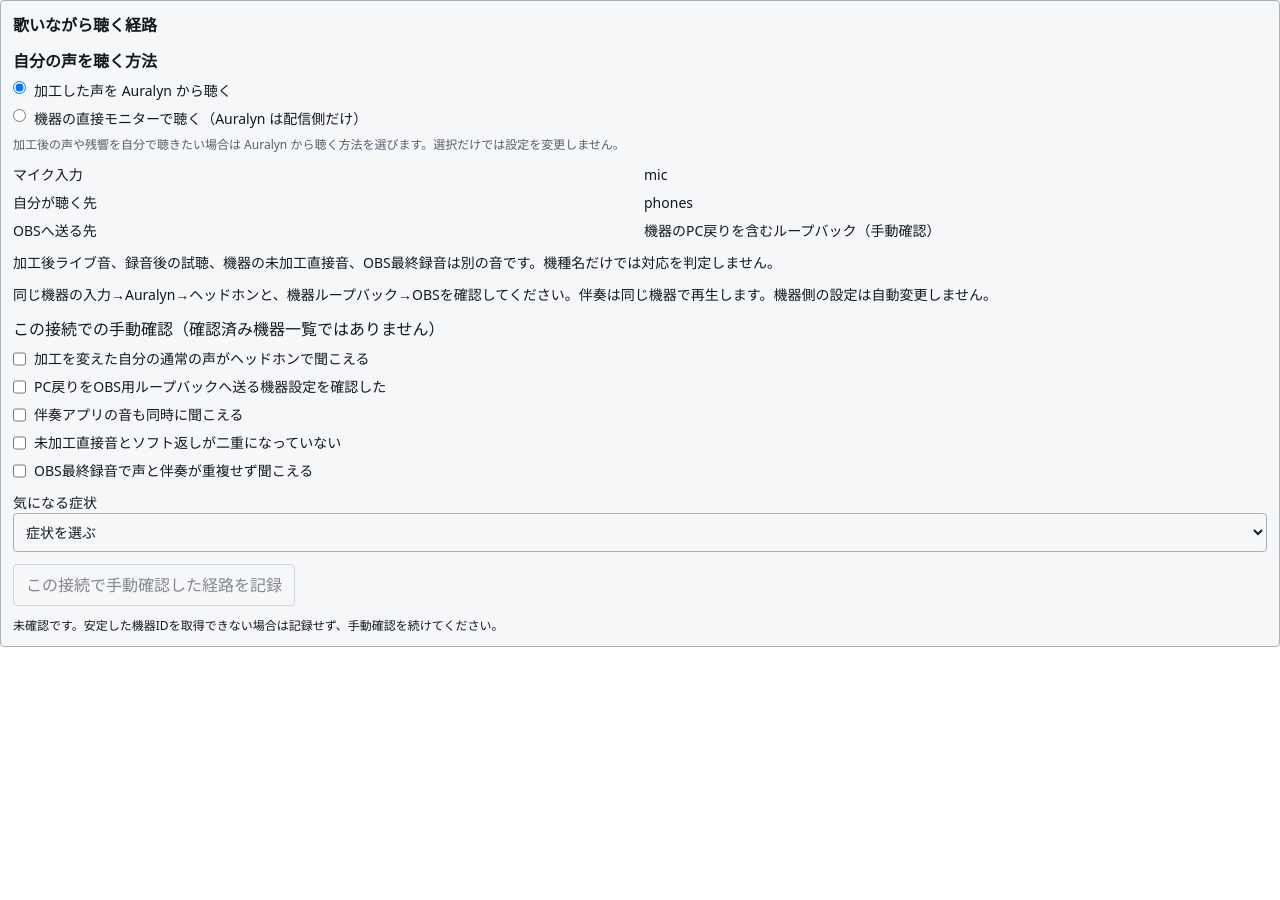
三役と手動確認を保存し、機器選択が変わった後は以前の確認を現在値にしない
Click the checkbox labelled "加工を変えた自分の通常の声がヘッドホンで聞こえる" at (20, 359), box [13,349,26,369]
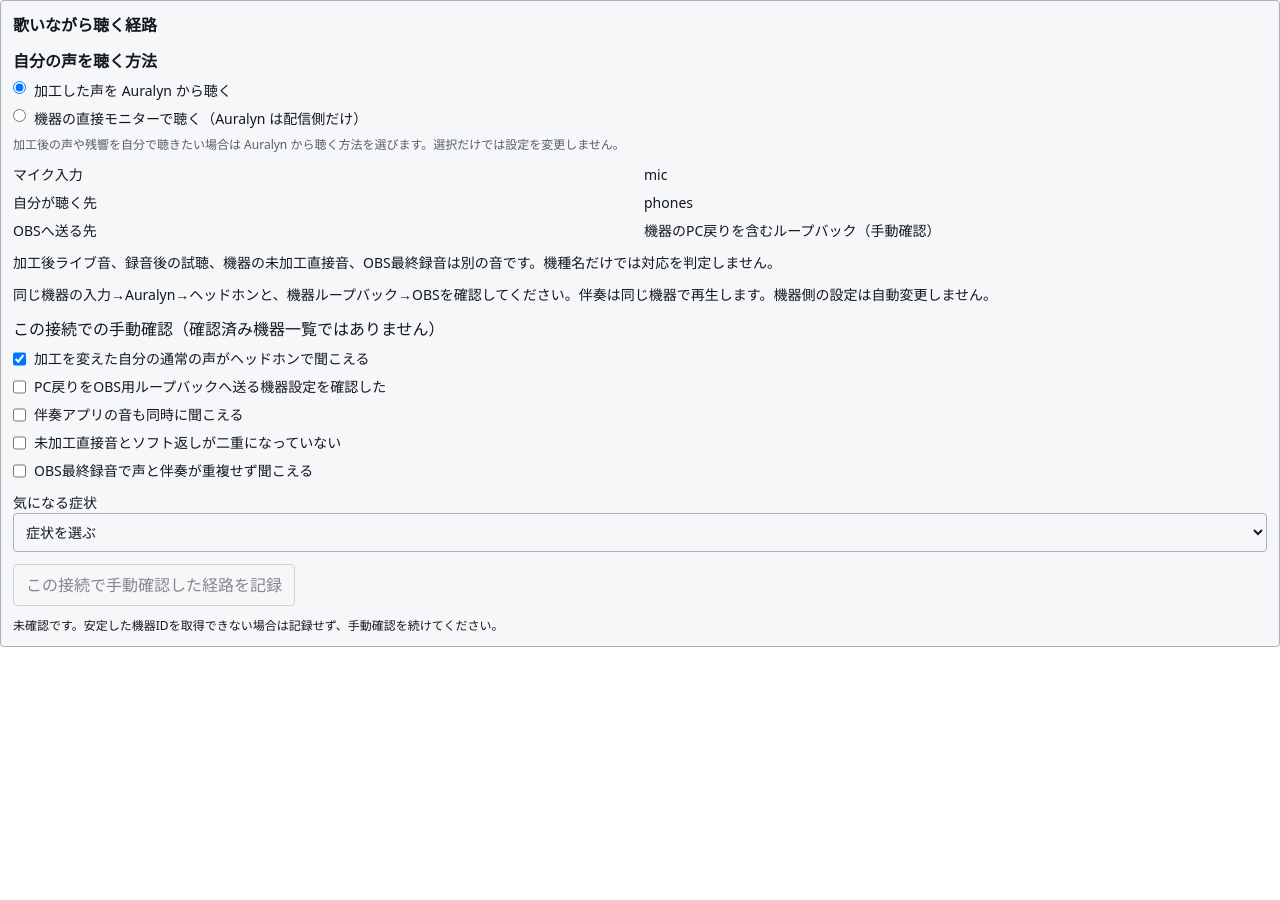
Click the checkbox labelled "PC戻りをOBS用ループバックへ送る機器設定を確認した" at (20, 387), box [13,377,26,397]
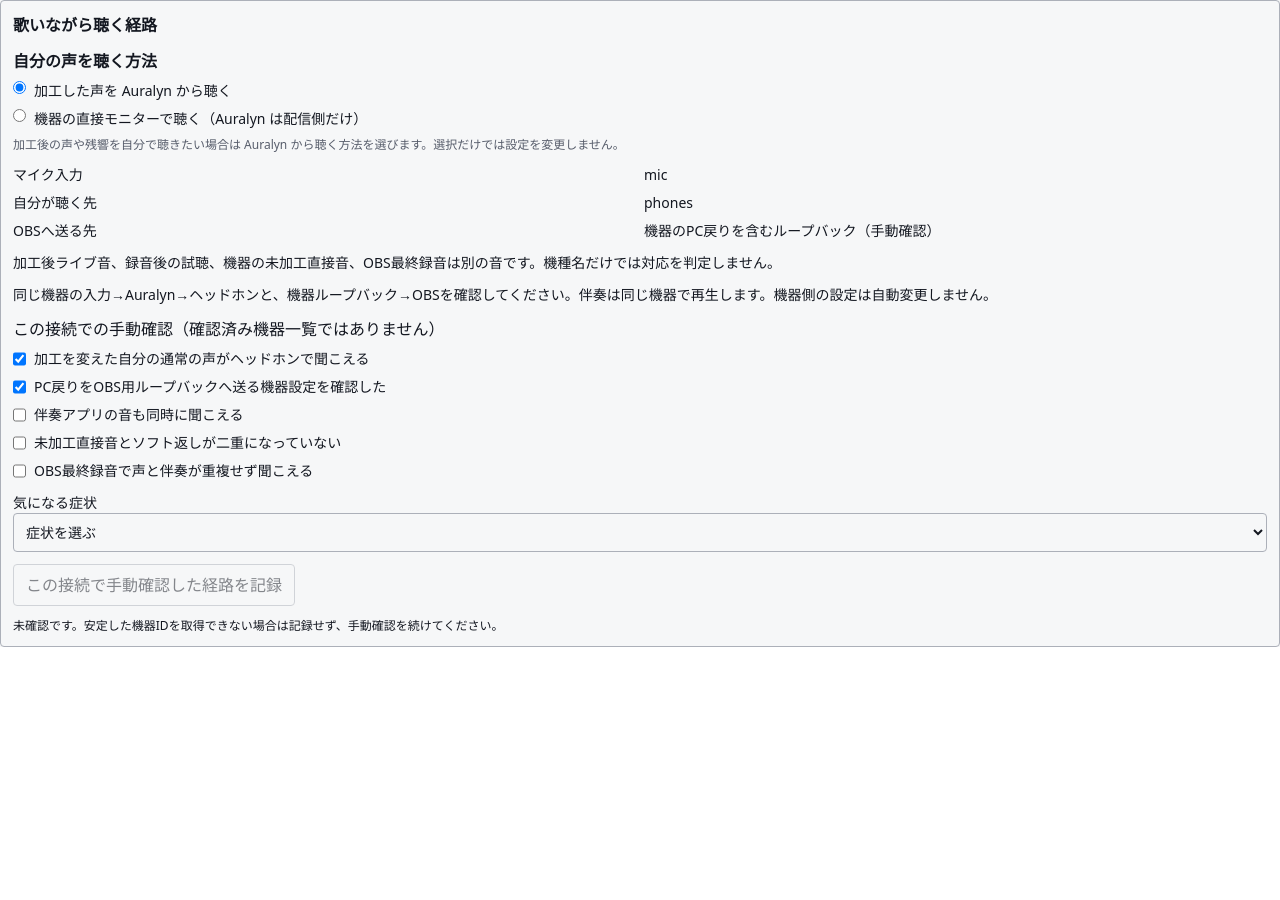
Click the checkbox labelled "伴奏アプリの音も同時に聞こえる" at (20, 415), box [13,405,26,425]
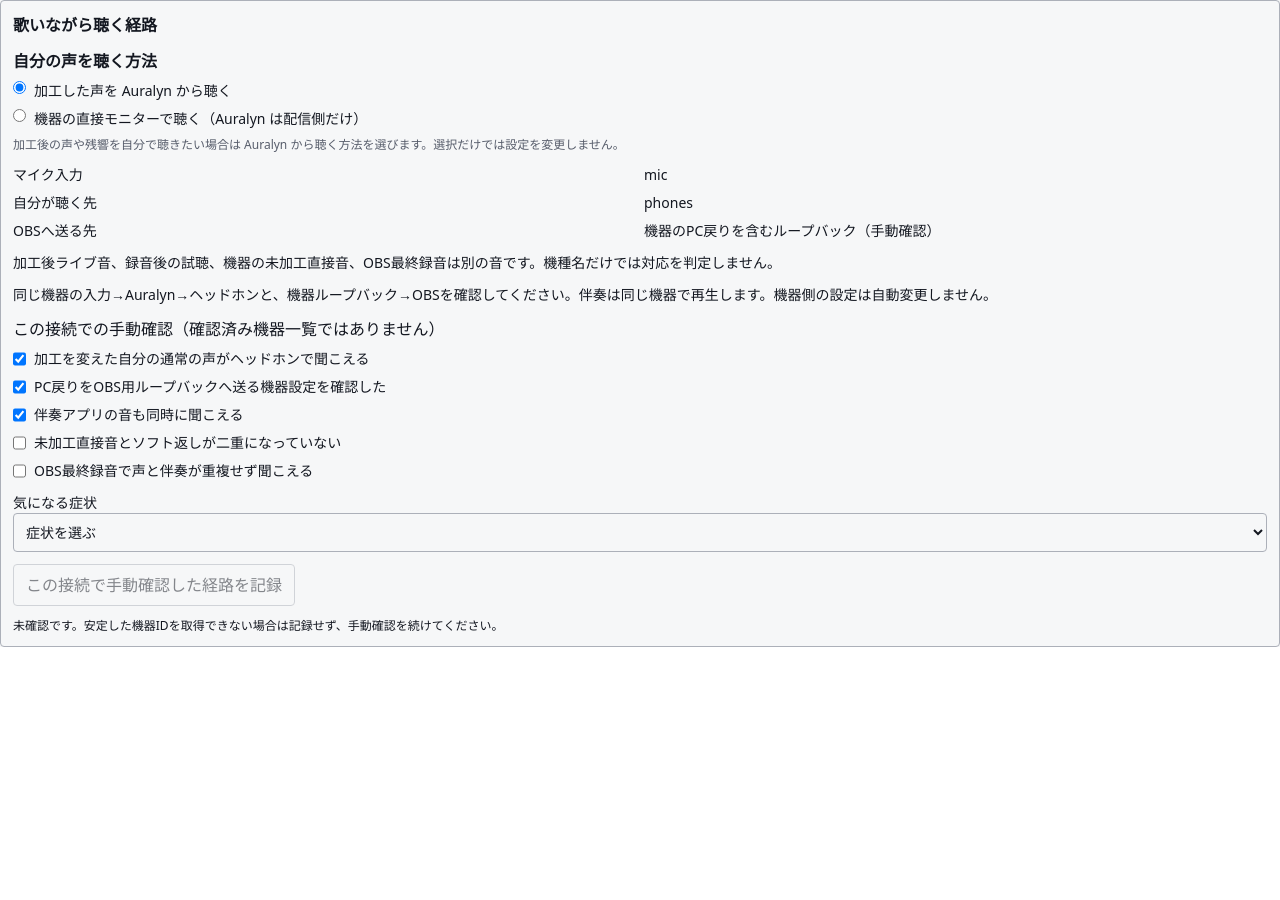
Click the checkbox labelled "未加工直接音とソフト返しが二重になっていない" at (20, 443), box [13,433,26,453]
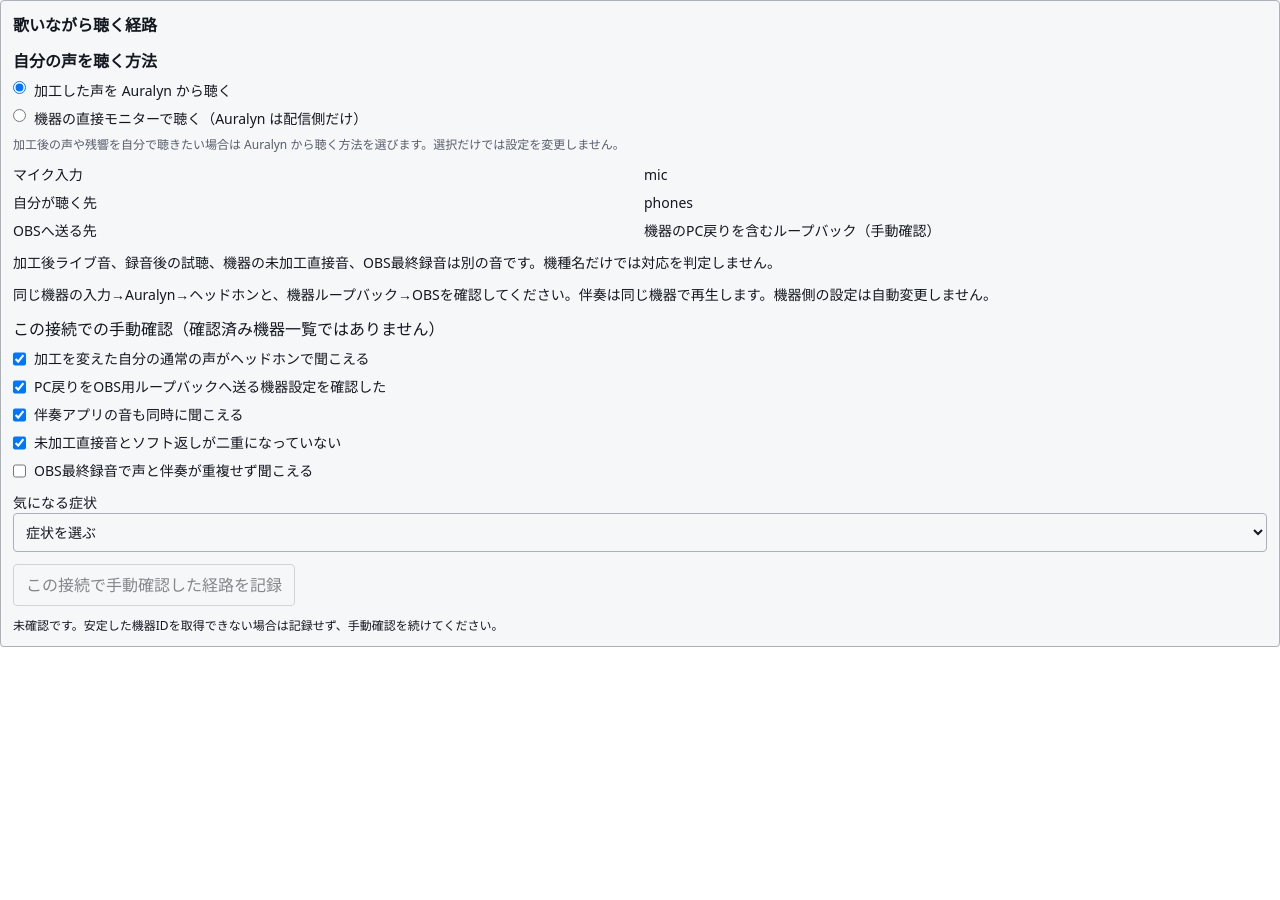
Click the checkbox labelled "OBS最終録音で声と伴奏が重複せず聞こえる" at (20, 471), box [13,461,26,481]
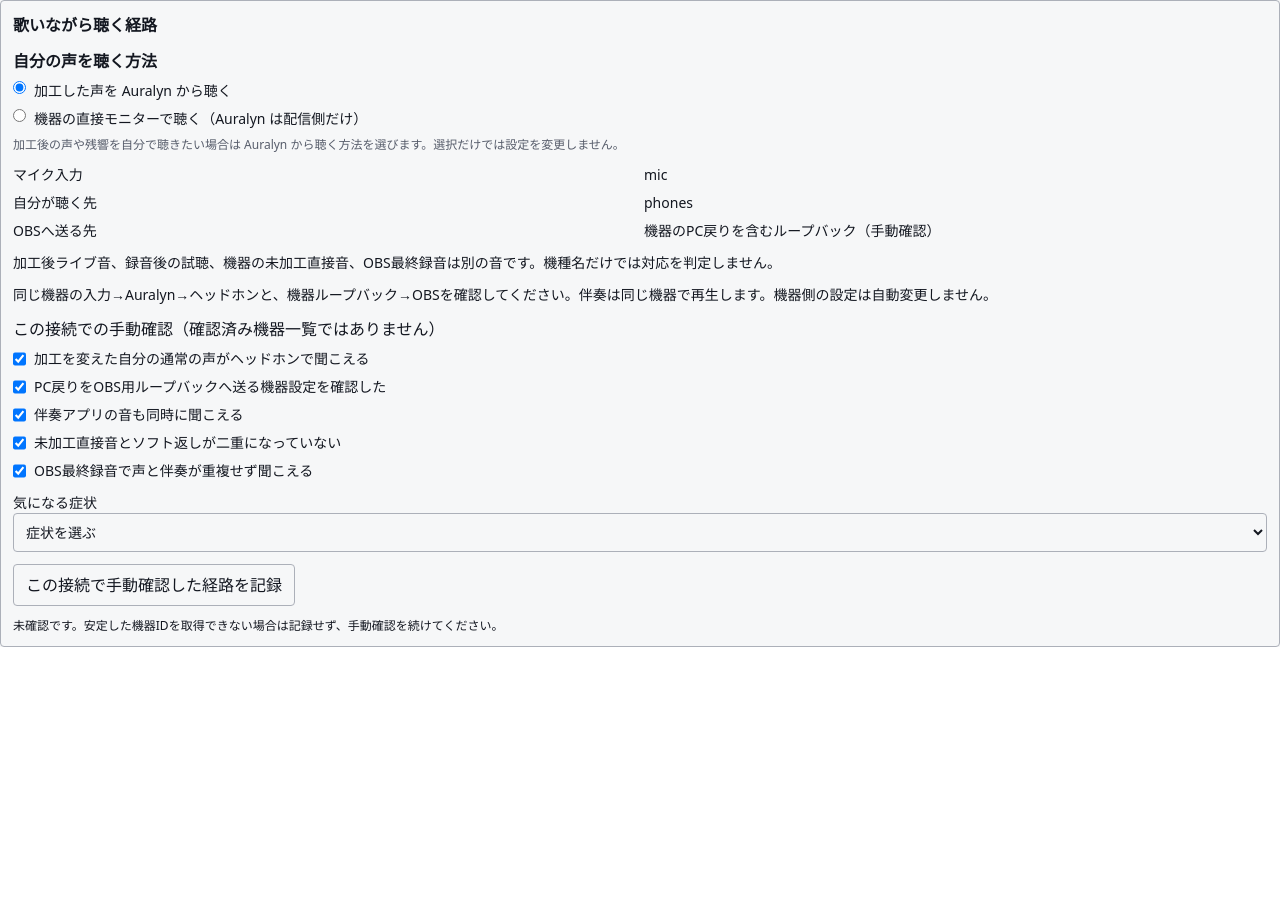
Click the button "この接続で手動確認した経路を記録" at (154, 585), box [13,564,295,606]
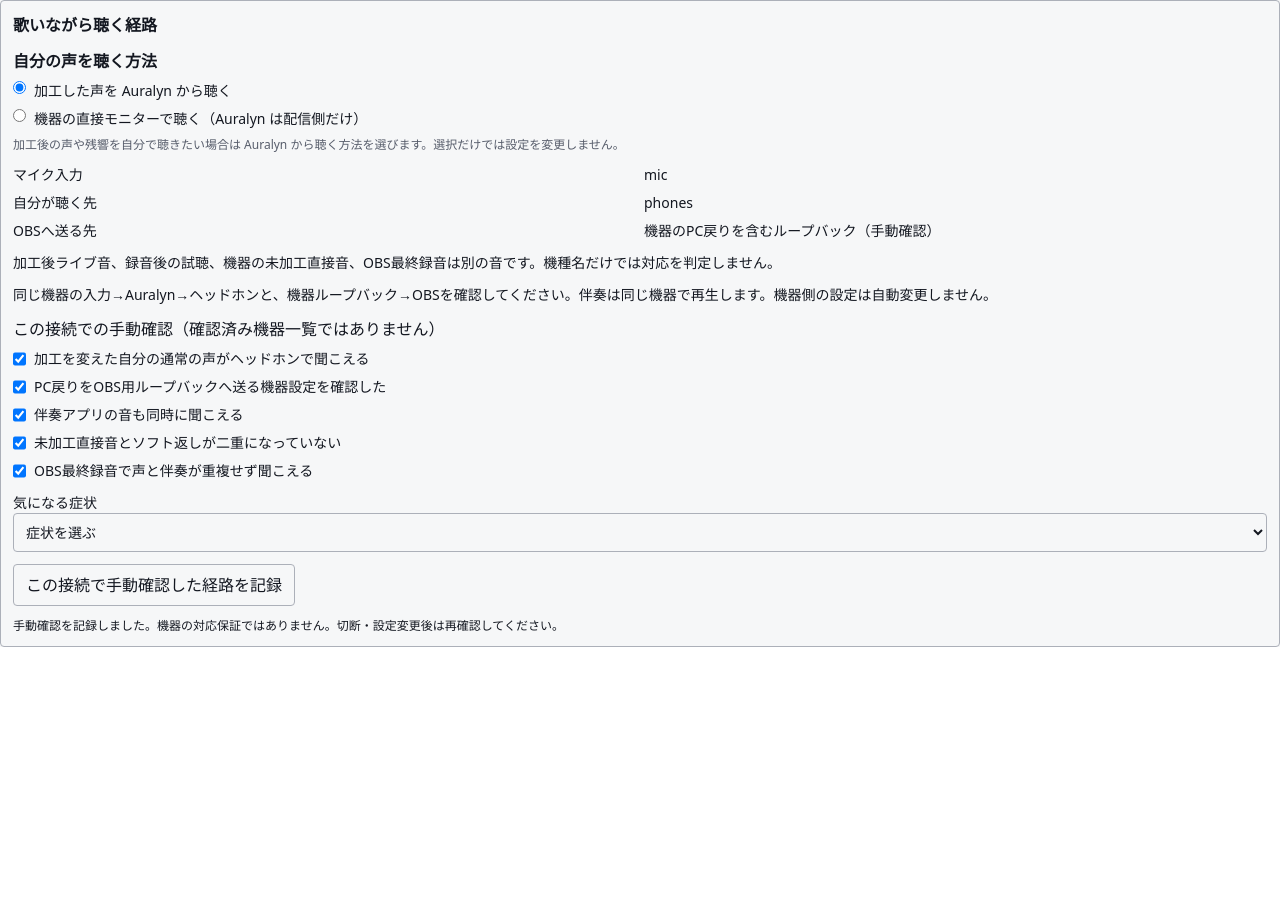
Expected: the text "手動確認を記録しました。機器の対応保証ではありません。切断・設定変更後は再確認してください。" is shown, [13,617,564,634]
